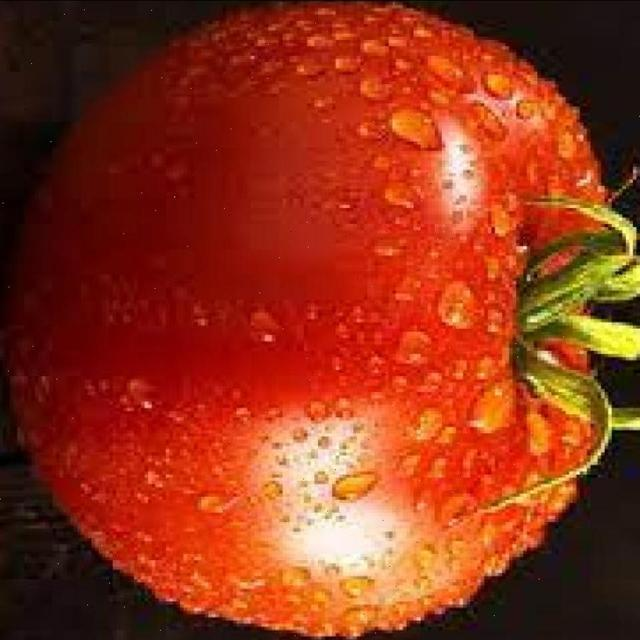Healthy Fruit: (5, 7, 417, 427)
